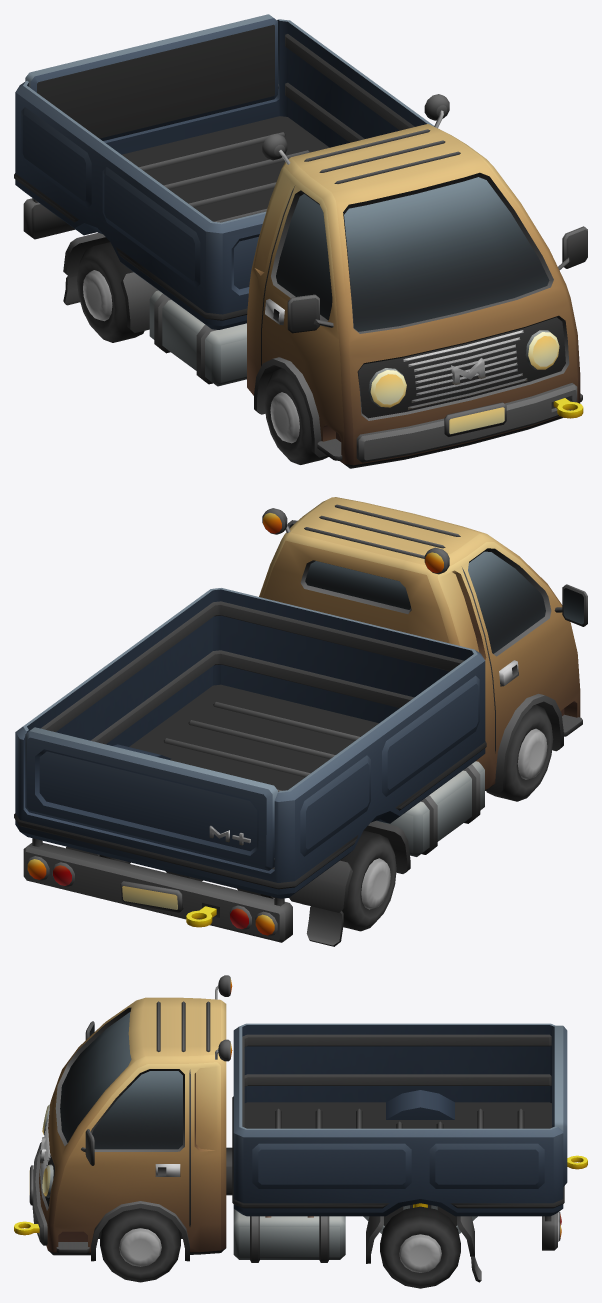
Rendered from VHC0110018.FBX.
The picture shows the model from 3 angles, top to bottom: view 1: azimuth 30°, elevation 25°; view 2: azimuth 150°, elevation 25°; view 3: azimuth 270°, elevation 25°; orthographic projection. The views are drawn at different scales.
Visible parts, largest first — view 1: smVHC0110018; view 2: smVHC0110018; view 3: smVHC0110018.
Boxes of the visible parts, left/top/right/bottom form: smVHC0110018: left=14, top=14, right=587, bottom=468; smVHC0110018: left=14, top=497, right=587, bottom=946; smVHC0110018: left=14, top=975, right=587, bottom=1288.
Bounding box in the file's own units: 2.79 × 2.48 × 5.68.
1 material, 1 textured.
